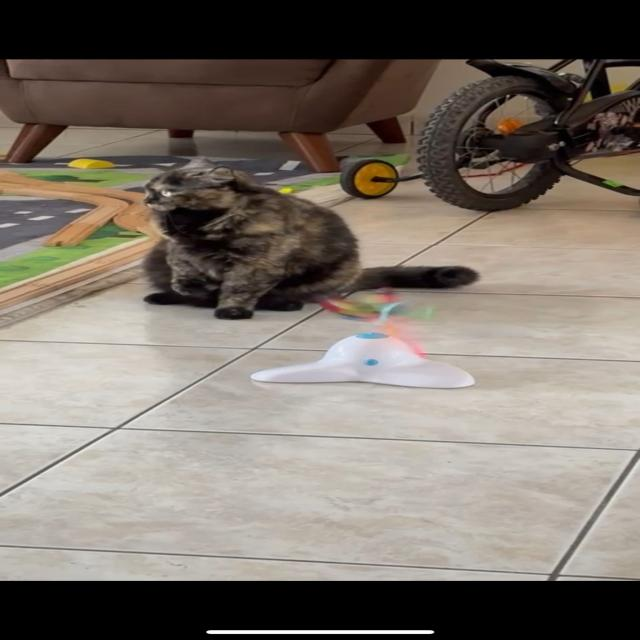authorized: (138, 156, 480, 320)
